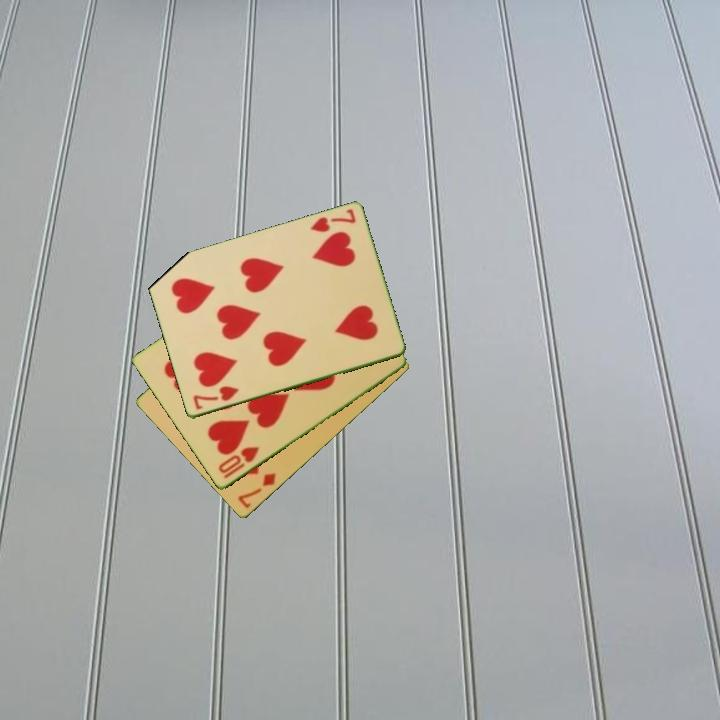10h: (215, 443, 262, 482)
7d: (234, 469, 279, 511)
7h: (189, 383, 242, 413), (307, 206, 359, 236)
